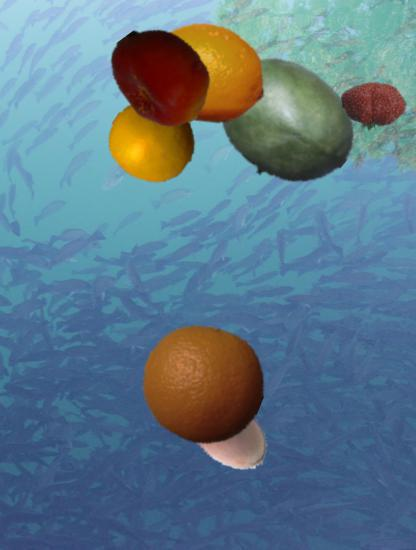Grapefruit: (109, 97, 197, 185)
Hazelnut: (168, 372, 278, 482)
Lemon: (148, 13, 268, 133)
Mango: (214, 51, 357, 194)
Nectarine: (108, 23, 216, 131)
Orange: (142, 324, 265, 447)
Strawberry: (343, 75, 407, 139)
